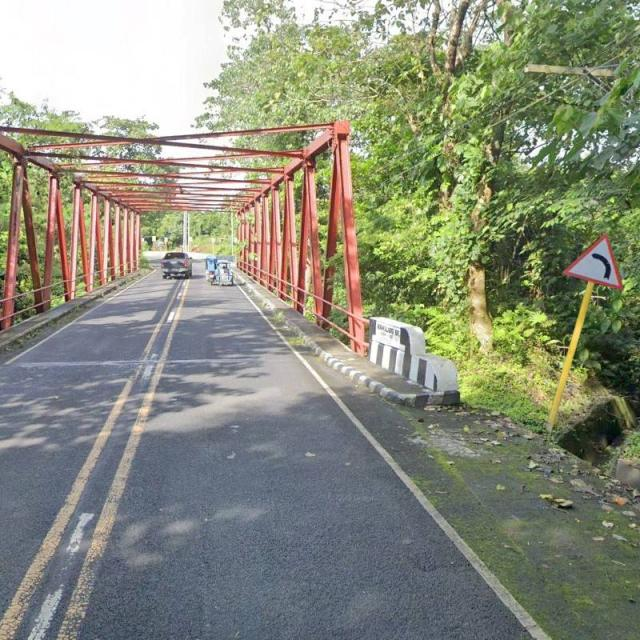warn_left_curve: (562, 233, 624, 290)
